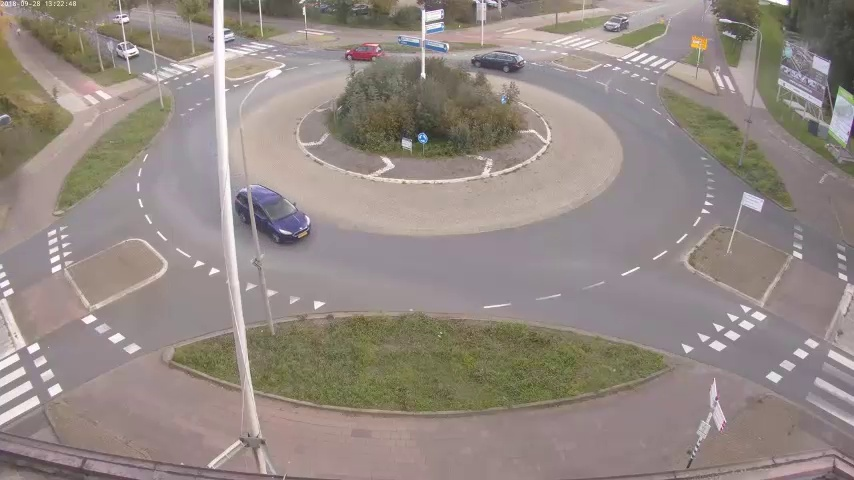car: (236, 184, 311, 241), (471, 46, 525, 72), (346, 36, 386, 66), (604, 10, 626, 32), (114, 41, 139, 60), (207, 26, 233, 43), (111, 11, 130, 30)
